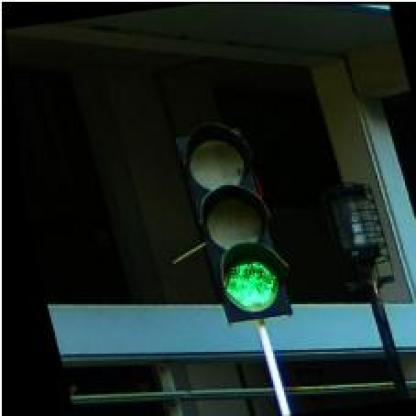green: (166, 116, 296, 324)
